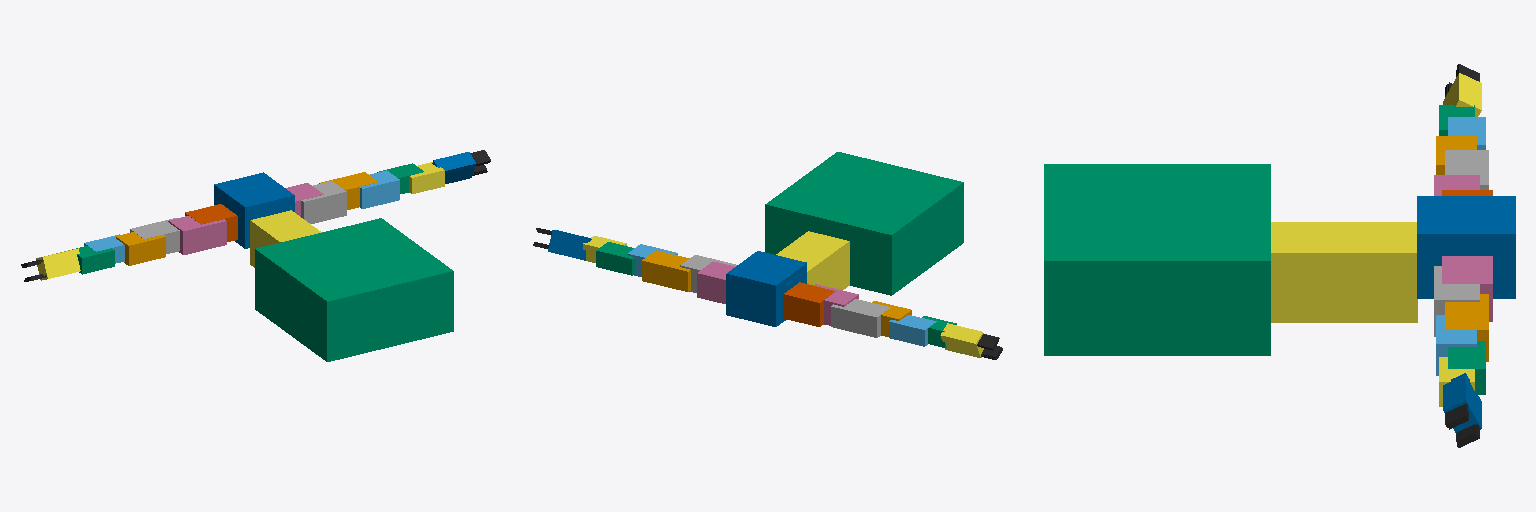
The robot description file, URDF, robot "Krang":
<?xml version="1.0" ?>
<!-- @file Krang.urdf -->
<!-- @author [author] -->
<!-- @date May 19, 2013 -->
<!-- @brief This file contains the .urdf definition for Krang with no dae files but only -->
<!-- bounding boxes for the dae files except the wheels (for fast loading in 05-fr). -->
<!-- TODO: Set the center of mass locations -->
<!-- TODO: Set the correct masses. Note that the dae models have the brackets divided in two and -->
<!-- connected to the middle motor for which we do not have measurements. -->
<!-- NOTE: The bounding box values are taken by finding the min and max values of the dae files. -->

<robot name="Krang">

	<!-- Links -->

	<link name = "LWheel"> 
    <inertial>
      <mass value="4.66"/>
      <inertia ixx="0.102019" ixy="2.45462e-05" ixz="0.00713022" iyy="0.0832724" iyz="-0.00131733" izz="0.086493"/>
      <origin xyz="0 0 0"/>
    </inertial>
		<visual> <geometry> <mesh filename="Base/oldwheel.dae" /> </geometry> </visual> 
		<collision> <geometry> <mesh filename="Base/oldwheel.dae" /> </geometry> </collision> 
	</link>

	<link name = "RWheel"> 
    <inertial>
      <mass value="4.66"/>
      <inertia ixx="0.102019" ixy="2.45462e-05" ixz="0.00713022" iyy="0.0832724" iyz="-0.00131733" izz="0.086493"/>
      <origin xyz="0 0 0"/>
    </inertial>
		<visual> <geometry> <mesh filename="Base/oldwheel.dae" /> </geometry> </visual> 
		<collision> <geometry> <mesh filename="Base/oldwheel.dae" /> </geometry> </collision> 
	</link>

	<link name = "Base"> 
    <inertial>
      <mass value="86.5"/>
      <inertia ixx="0.102019" ixy="2.45462e-05" ixz="0.00713022" iyy="0.0832724" iyz="-0.00131733" izz="0.086493"/>
      <origin xyz="0 0 0"/>
    </inertial>
		<visual> 
			<origin xyz="0.00225 0.2097395 0.006300"/>
      <geometry>
        <box size="0.7165 0.71048 0.32860"/>
      </geometry>
		</visual> 
		<collision> 
			<origin xyz="0.00225 0.2097395 0.006300"/>
      <geometry>
        <box size="0.7165 0.71048 0.32860"/>
      </geometry>
		</collision> 
	</link>

	<link name = "Spine"> 
    <inertial>
      <mass value="6.547"/>
      <inertia ixx="0.102019" ixy="2.45462e-05" ixz="0.00713022" iyy="0.0832724" iyz="-0.00131733" izz="0.086493"/>
      <origin xyz="0 0 0"/>
    </inertial>
		<visual> 
			<origin xyz="-0.026 0.230150 0.053887"/>
      <geometry>
        <box size="0.2340 0.59430 0.24097"/>
      </geometry>
		</visual> 
		<collision> 
			<origin xyz="-0.026 0.230150 0.053887"/>
      <geometry>
        <box size="0.2340 0.59430 0.24097"/>
      </geometry>
		</collision> 
	</link>

	<link name = "Bracket"> 
    <inertial>
      <mass value="3.11"/>
      <inertia ixx="0.102019" ixy="2.45462e-05" ixz="0.00713022" iyy="0.0832724" iyz="-0.00131733" izz="0.086493"/>
      <origin xyz="0 0 0"/>
    </inertial>
		<visual> <origin xyz="0.0012875 0.0971525 -0.0280530"/> <geometry> <box size="0.2815 0.30791 0.22611"/> </geometry> </visual> 
		<collision> <origin xyz="0.0012875 0.0971525 -0.0280530"/> <geometry> <box size="0.2815 0.30791 0.22611"/> </geometry> </collision> 
	</link>

	<link name = "L1"> 
    <inertial>
      <mass value="3.28"/>
      <inertia ixx="0.102019" ixy="2.45462e-05" ixz="0.00713022" iyy="0.0832724" iyz="-0.00131733" izz="0.086493"/>
      <origin xyz="0 0 0"/>
    </inertial>
		<visual> <origin xyz="0.015 -0.080866 0.0"/> <geometry> <box size="0.16 0.29367 0.13188"/> </geometry> </visual> 
		<collision> <origin xyz="0.015 -0.080866 0.0"/> <geometry> <box size="0.16 0.29367 0.13188"/> </geometry> </collision> 
	</link>

	<link name = "L2"> 
    <inertial>
      <mass value="3.76"/>
      <inertia ixx="0.102019" ixy="2.45462e-05" ixz="0.00713022" iyy="0.0832724" iyz="-0.00131733" izz="0.086493"/>
      <origin xyz="0 0 0"/>
    </inertial>
		<visual> <origin xyz="0.017042 -0.058309 0.0"/> <geometry> <box size="0.14591 0.24658 0.13"/> </geometry> </visual> 
		<collision> <origin xyz="0.017042 -0.058309 0.0"/> <geometry> <box size="0.14591 0.24658 0.13"/> </geometry> </collision> 
	</link>

	<link name = "L3"> 
    <inertial>
      <mass value="2.435"/>
      <inertia ixx="0.102019" ixy="2.45462e-05" ixz="0.00713022" iyy="0.0832724" iyz="-0.00131733" izz="0.086493"/>
      <origin xyz="0 0 0"/>
    </inertial>
		<visual> <origin xyz="0.014000 -0.075113 0.0"/> <geometry> <box size="0.13800 0.26217 0.11189"/> </geometry> </visual> 
		<collision> <origin xyz="0.014000 -0.075113 0.0"/> <geometry> <box size="0.13800 0.26217 0.11189"/> </geometry> </collision> 
	</link>

	<link name = "L4"> 
    <inertial>
      <mass value="2.356"/>
      <inertia ixx="0.102019" ixy="2.45462e-05" ixz="0.00713022" iyy="0.0832724" iyz="-0.00131733" izz="0.086493"/>
      <origin xyz="0 0 0"/>
    </inertial>
		<visual> <origin xyz="0.018200 -0.052050 0.0"/> <geometry> <box size="0.12960 0.2141 0.11"/> </geometry> </visual> 
		<collision> <origin xyz="0.018200 -0.052050 0.0"/> <geometry> <box size="0.12960 0.2141 0.11"/> </geometry> </collision> 
	</link>

	<link name = "L5"> 
    <inertial>
      <mass value="1.517"/>
      <inertia ixx="0.102019" ixy="2.45462e-05" ixz="0.00713022" iyy="0.0832724" iyz="-0.00131733" izz="0.086493"/>
      <origin xyz="0 0 0"/>
    </inertial>
		<visual> <origin xyz="0.0145115 -0.0571105 0.0000425"/> <geometry> <box size="0.117977 0.204179 0.089915"/> </geometry> </visual> 
		<collision> <origin xyz="0.0145115 -0.0571105 0.0000425"/> <geometry> <box size="0.117977 0.204179 0.089915"/> </geometry> </collision> 
	</link>

	<link name = "L6"> 
    <inertial>
      <mass value="1.428"/>
      <inertia ixx="0.102019" ixy="2.45462e-05" ixz="0.00713022" iyy="0.0832724" iyz="-0.00131733" izz="0.086493"/>
      <origin xyz="0 0 0"/>
    </inertial>
		<visual> <origin xyz="0.0175015 -0.0481615 0.0"/> <geometry> <box size="0.111977 0.185277 0.089"/> </geometry> </visual> 
		<collision> <origin xyz="0.0175015 -0.0481615 0.0"/> <geometry> <box size="0.111977 0.185277 0.089"/> </geometry> </collision> 
	</link>

	<link name = "lGripper"> 
    <inertial>
      <mass value="1.206"/>
      <inertia ixx="0.102019" ixy="2.45462e-05" ixz="0.00713022" iyy="0.0832724" iyz="-0.00131733" izz="0.086493"/>
      <origin xyz="0 0 0"/>
    </inertial>
		<visual> <origin xyz="0.0 -0.0 0.02615" rpy="0.0 0.0 0.4712"/> <geometry> <box size="0.08 0.112 0.2025"/> </geometry> </visual> 
		<collision> <origin xyz="0.0 -0.0 0.02615" rpy="0.0 0.0 0.4712"/> <geometry> <box size="0.08 0.112 0.2025"/> </geometry> </collision> 
	</link>

	<link name = "lgPlate1">
		<visual> <geometry> <mesh filename="Schunk/gripperPlate.dae" /> </geometry> </visual>
	</link> 	

	<link name = "lgPlate2">
		<visual> <geometry> <mesh filename="Schunk/gripperPlate.dae" /> </geometry> </visual>
	</link> 	

	<link name = "R1"> 
    <inertial>
      <mass value="3.28"/>
      <inertia ixx="0.102019" ixy="2.45462e-05" ixz="0.00713022" iyy="0.0832724" iyz="-0.00131733" izz="0.086493"/>
      <origin xyz="0 0 0"/>
    </inertial>
		<visual> <origin xyz="0.015 -0.080866 0.0"/> <geometry> <box size="0.16 0.29367 0.13188"/> </geometry> </visual> 
		<collision> <origin xyz="0.015 -0.080866 0.0"/> <geometry> <box size="0.16 0.29367 0.13188"/> </geometry> </collision> 
	</link>

	<link name = "R2"> 
    <inertial>
      <mass value="3.76"/>
      <inertia ixx="0.102019" ixy="2.45462e-05" ixz="0.00713022" iyy="0.0832724" iyz="-0.00131733" izz="0.086493"/>
      <origin xyz="0 0 0"/>
    </inertial>
		<visual> <origin xyz="0.017042 -0.058309 0.0"/> <geometry> <box size="0.14591 0.24658 0.13"/> </geometry> </visual> 
		<collision> <origin xyz="0.017042 -0.058309 0.0"/> <geometry> <box size="0.14591 0.24658 0.13"/> </geometry> </collision> 
	</link>

	<link name = "R3"> 
    <inertial>
      <mass value="2.435"/>
      <inertia ixx="0.102019" ixy="2.45462e-05" ixz="0.00713022" iyy="0.0832724" iyz="-0.00131733" izz="0.086493"/>
      <origin xyz="0 0 0"/>
    </inertial>
		<visual> <origin xyz="0.014000 -0.075113 0.0"/> <geometry> <box size="0.13800 0.26217 0.11189"/> </geometry> </visual> 
		<collision> <origin xyz="0.014000 -0.075113 0.0"/> <geometry> <box size="0.13800 0.26217 0.11189"/> </geometry> </collision> 
	</link>

	<link name = "R4"> 
    <inertial>
      <mass value="2.356"/>
      <inertia ixx="0.102019" ixy="2.45462e-05" ixz="0.00713022" iyy="0.0832724" iyz="-0.00131733" izz="0.086493"/>
      <origin xyz="0 0 0"/>
    </inertial>
		<visual> <origin xyz="0.018200 -0.052050 0.0"/> <geometry> <box size="0.12960 0.2141 0.11"/> </geometry> </visual> 
		<collision> <origin xyz="0.018200 -0.052050 0.0"/> <geometry> <box size="0.12960 0.2141 0.11"/> </geometry> </collision> 
	</link>

	<link name = "R5"> 
    <inertial>
      <mass value="1.517"/>
      <inertia ixx="0.102019" ixy="2.45462e-05" ixz="0.00713022" iyy="0.0832724" iyz="-0.00131733" izz="0.086493"/>
      <origin xyz="0 0 0"/>
    </inertial>
		<visual> <origin xyz="0.0145115 -0.0571105 0.0000425"/> <geometry> <box size="0.117977 0.204179 0.089915"/> </geometry> </visual> 
		<collision> <origin xyz="0.0145115 -0.0571105 0.0000425"/> <geometry> <box size="0.117977 0.204179 0.089915"/> </geometry> </collision> 
	</link>

	<link name = "R6"> 
    <inertial>
      <mass value="1.428"/>
      <inertia ixx="0.102019" ixy="2.45462e-05" ixz="0.00713022" iyy="0.0832724" iyz="-0.00131733" izz="0.086493"/>
      <origin xyz="0 0 0"/>
    </inertial>
		<visual> <origin xyz="0.0175015 -0.0481615 0.0"/> <geometry> <box size="0.111977 0.185277 0.089"/> </geometry> </visual> 
		<collision> <origin xyz="0.0175015 -0.0481615 0.0"/> <geometry> <box size="0.111977 0.185277 0.089"/> </geometry> </collision> 
	</link>

	<link name = "rGripper"> 
    <inertial>
      <mass value="1.206"/>
      <inertia ixx="0.102019" ixy="2.45462e-05" ixz="0.00713022" iyy="0.0832724" iyz="-0.00131733" izz="0.086493"/>
      <origin xyz="0 0 0"/>
    </inertial>
		<visual> <origin xyz="0.0 -0.0 0.02615" rpy="0.0 0.0 0.4712"/> <geometry> <box size="0.08 0.112 0.2025"/> </geometry> </visual> 
		<collision> <origin xyz="0.0 -0.0 0.02615" rpy="0.0 0.0 0.4712"/> <geometry> <box size="0.08 0.112 0.2025"/> </geometry> </collision> 
	</link>

	<link name = "rgPlate1">
		<visual> <geometry> <mesh filename="Schunk/gripperPlate.dae" /> </geometry> </visual>
	</link> 	

	<link name = "rgPlate2">
		<visual> <geometry> <mesh filename="Schunk/gripperPlate.dae" /> </geometry> </visual>
	</link> 	

	<!-- ======================================================================================================== -->
	<!-- ============================================ Joints ==================================================== -->
	<!-- ======================================================================================================== -->

	<joint name="JLWheel" type="revolute"> <parent link="Base" /> <child link="LWheel" />
		<origin xyz = "-0.354 0.0 0" rpy="0 0 0" />
		<axis xyz="1 0 0" /> <limit effort="1000" lower="-3.1416" upper="3.1416" velocity="0.1" />
	</joint>

	<joint name="JRWheel" type="revolute"> <parent link="Base" /> <child link="RWheel" />
		<origin xyz = "0.361 0.0 0" rpy="0 0 0" />
		<axis xyz="1 0 0" /> <limit effort="1000" lower="-3.1416" upper="3.1416" velocity="0.1" />
	</joint>

	<joint name="JWaist" type="revolute"> <parent link="Base" /> <child link="Spine" />
		<origin xyz = "0.026 0.499 -0.091" rpy="0 0 0" />
		<axis xyz="-1 0 0" /> <limit effort="1000" lower="0" upper="2.3" velocity="0.1" />
	</joint>

	<joint name="JTorso" type="revolute"> <parent link="Spine" /> <child link="Bracket" />
		<origin xyz = "-0.0285 0.584 0.1088" rpy="0 3.1416 0" />
		<axis xyz="0 -1 0" /> <limit effort="1000" lower="-0.8" upper="0.8" velocity="0.1" />
	</joint>

	<joint name="LJ1" type="revolute"> <parent link="Bracket" /> <child link="L1" />
		<origin xyz = "0.2823 0.0845 0" rpy="0 3.1416 -1.5708" />
		<axis xyz="0 -1 0" /> <limit effort="1000" lower="-3.1416" upper="3.1416" velocity="0.1" />
	</joint>

	<joint name="LJ2" type="revolute"> <parent link="L1" /> <child link="L2" />
		<origin xyz="0 0.0 0" rpy="3.14 3.14 0" />
		<axis xyz="-1 0 0" /> <limit effort="1000" lower="-2.094" upper="2.094" velocity="0.1" />
	</joint>

	<joint name="LJ3" type="revolute"> <parent link="L2" /> <child link="L3" />
		<origin xyz="0 -0.328 0" rpy="-3.1416 -3.1416 0" />
		<axis xyz="0 -1 0" /> <limit effort="1000" lower="-3.1416" upper="3.1416" velocity="0.1" />
	</joint>

	<joint name="LJ4" type="revolute"> <parent link="L3" /> <child link="L4" />
		<origin xyz="0 0 0" rpy="3.1416 3.1416 0" />
		<axis xyz="-1 0 0" /> <limit effort="1000" lower="-2.094" upper="2.094" velocity="0.1" />
	</joint>

	<joint name="LJ5" type="revolute"> <parent link="L4" /> <child link="L5" />
		<origin xyz="0 -0.2765 0" rpy="3.1416 3.1416 0" />
		<axis xyz="0 -1 0" /> <limit effort="1000" lower="-3.1416" upper="3.1416" velocity="0.1" />
	</joint>

	<joint name="LJ6" type="revolute"> <parent link="L5" /> <child link="L6" />
		<origin xyz="0 0 0" rpy="3.1416 3.1416 0" />
		<axis xyz="-1 0 0" /> <limit effort="1000" lower="-2.094" upper="2.094" velocity="0.1" />
	</joint>

	<!-- For some reason, I had to negate the axis to make sure the motor turns like the others -->
	<joint name="LJFT" type="revolute"> <parent link="L6" /> <child link="lGripper" />
		<origin xyz="0 -0.200 0" rpy="1.5708 3.1416 0" />
		<axis xyz="0 1 0" /> <limit effort="1000" lower="-3.1416" upper="3.1416" velocity="0.1" />
	</joint>

	<joint name="LMotorPlate1" type="fixed"> <parent link="lGripper" /> <child link="lgPlate1" />
		<origin xyz="0.02043 -0.04010 0.127" rpy="3.1416 0 2.04" />
		<axis xyz="1 0 0" /> <limit effort="1000" lower="0.0" upper="0.0135" velocity="0.1" />
	</joint>

	<joint name="LMotorPlate2" type="fixed"> <parent link="lGripper" /> <child link="lgPlate2" />
		<origin xyz="-0.02043 0.04010 0.127" rpy="3.1416 0 -1.10" />
		<axis xyz="1 0 0" /> <limit effort="1000" lower="0.0" upper="0.0135" velocity="0.1" />
	</joint>

	<!-- Right arm -->

	<joint name="RJ1" type="revolute"> <parent link="Bracket" /> <child link="R1" />
		<origin xyz = "-0.2823 0.0845 0" rpy="0 0 1.5708" />
		<axis xyz="0 -1 0" /> <limit effort="1000" lower="-3.1416" upper="3.1416" velocity="0.1" />
	</joint>

	<joint name="RJ2" type="revolute"> <parent link="R1" /> <child link="R2" />
		<origin xyz="0 0.0 0" rpy="3.14 3.14 0" />
		<axis xyz="-1 0 0" /> <limit effort="1000" lower="-2.094" upper="2.094" velocity="0.1" />
	</joint>

	<joint name="RJ3" type="revolute"> <parent link="R2" /> <child link="R3" />
		<origin xyz="0 -0.328 0" rpy="-3.1416 -3.1416 0" />
		<axis xyz="0 -1 0" /> <limit effort="1000" lower="-3.1416" upper="3.1416" velocity="0.1" />
	</joint>

	<joint name="RJ4" type="revolute"> <parent link="R3" /> <child link="R4" />
		<origin xyz="0 0 0" rpy="3.1416 3.1416 0" />
		<axis xyz="-1 0 0" /> <limit effort="1000" lower="-2.094" upper="2.094" velocity="0.1" />
	</joint>

	<joint name="RJ5" type="revolute"> <parent link="R4" /> <child link="R5" />
		<origin xyz="0 -0.2765 0" rpy="3.1416 3.1416 0" />
		<axis xyz="0 -1 0" /> <limit effort="1000" lower="-3.1416" upper="3.1416" velocity="0.1" />
	</joint>

	<joint name="RJ6" type="revolute"> <parent link="R5" /> <child link="R6" />
		<origin xyz="0 0 0" rpy="3.1416 3.1416 0" />
		<axis xyz="-1 0 0" /> <limit effort="1000" lower="-2.094" upper="2.094" velocity="0.1" />
	</joint>

	<joint name="RJFT" type="revolute"> <parent link="R6" /> <child link="rGripper" />
		<origin xyz="0 -0.200 0" rpy="1.5708 3.1416 0" />
		<axis xyz="0 1 0" /> <limit effort="1000" lower="-3.1416" upper="3.1416" velocity="0.1" />
	</joint>

	<joint name="RMotorPlate1" type="fixed"> <parent link="rGripper" /> <child link="rgPlate1" />
		<origin xyz="0.02043 -0.04010 0.127" rpy="3.1416 0 2.04" />
		<axis xyz="1 0 0" /> <limit effort="1000" lower="0.0" upper="0.0135" velocity="0.1" />
	</joint>

	<joint name="RMotorPlate2" type="fixed"> <parent link="rGripper" /> <child link="rgPlate2" />
		<origin xyz="-0.02043 0.04010 0.127" rpy="3.1416 0 -1.10" />
		<axis xyz="1 0 0" /> <limit effort="1000" lower="0.0" upper="0.0135" velocity="0.1" />
	</joint>

</robot>

--- What the picture shows (computed from the rendered views, not written in the file) ---
3 views of the same robot in one strip: view 1: azimuth 30°, elevation 25°; view 2: azimuth 150°, elevation 25°; view 3: azimuth 270°, elevation 25° (orthographic).
Model Krang with 23 links and 22 joints (18 revolute, 4 fixed), rooted at Base, posed all joints at 0.
Visible links, largest first — view 1: Base, Bracket, Spine, L2, R2, L4, R4, lGripper, rGripper, L1, L3, R6 (+2 smaller); view 2: Base, Bracket, Spine, L1, L3, R3, R1, lGripper, L5, R5, rGripper, L2; view 3: Base, Spine, Bracket, R1, R3, rGripper, L3, R5, R2, lGripper, R4, L5 (+4 smaller).
Boxes of the visible links, <box> form: Base: <box>255,218,453,361</box>; Bracket: <box>214,172,294,248</box>; Spine: <box>250,210,321,267</box>; L2: <box>168,216,226,254</box>; R2: <box>301,181,346,223</box>; L4: <box>116,232,165,265</box>; R4: <box>360,170,399,208</box>; lGripper: <box>36,248,80,280</box>; rGripper: <box>432,152,475,183</box>; L1: <box>185,204,237,241</box>; L3: <box>130,218,179,253</box>; R6: <box>409,162,444,193</box>; Base: <box>765,152,963,295</box>; Bracket: <box>726,251,806,326</box>; Spine: <box>776,231,849,289</box>; L1: <box>783,282,835,326</box>; L3: <box>831,299,890,337</box>; R3: <box>642,250,690,291</box>; R1: <box>697,261,734,303</box>; lGripper: <box>940,323,983,357</box>; L5: <box>889,315,936,346</box>; R5: <box>596,242,634,275</box>; rGripper: <box>548,230,591,260</box>; L2: <box>813,284,858,325</box>; Base: <box>1044,164,1270,355</box>; Spine: <box>1271,222,1417,322</box>; Bracket: <box>1417,196,1515,298</box>; R1: <box>1442,256,1492,321</box>; R3: <box>1445,294,1488,361</box>; rGripper: <box>1443,373,1481,432</box>; L3: <box>1445,150,1488,189</box>; R5: <box>1448,341,1485,394</box>; R2: <box>1434,266,1479,336</box>; lGripper: <box>1443,73,1481,116</box>; R4: <box>1436,315,1476,375</box>; L5: <box>1448,117,1485,149</box>.
Size in the robot's own frame: 2.61 by 1.48 by 0.3286 metres.
4 mesh visuals loaded from 2 distinct referenced files (1 Collada DAE); not drawn: 2 (reference not matched to a file when rendering).